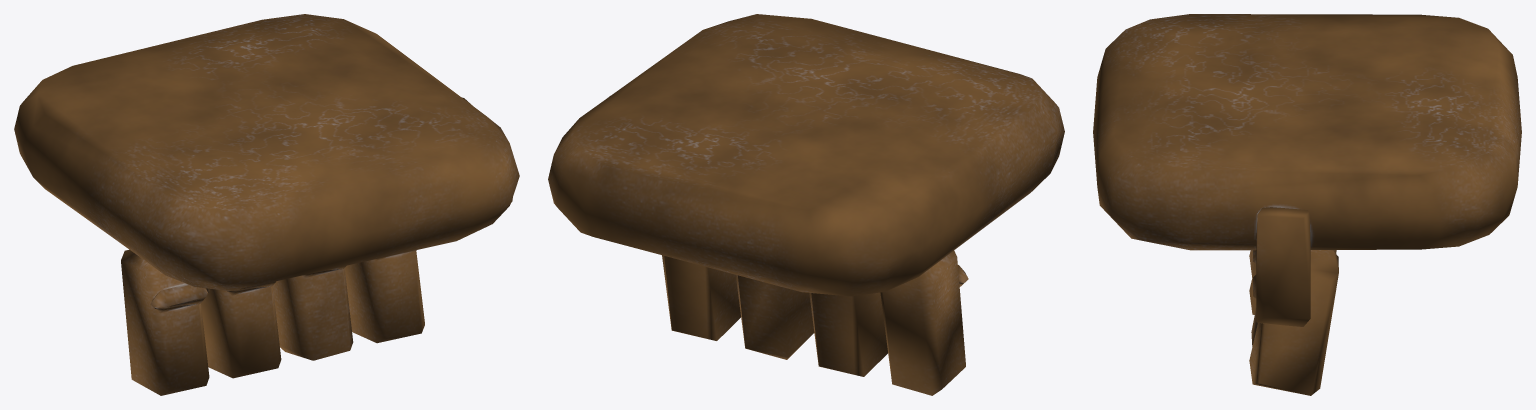
The model's file is MatonImp_BrazoMano_Bronce.fbx.
3 views of the same model, side by side, from view 1: azimuth 30°, elevation 25°; view 2: azimuth 150°, elevation 25°; view 3: azimuth 270°, elevation 25° (orthographic). The views are drawn at different scales.
Parts seen in each view (by area): view 1: MatonImp_BrazoMano_Bronce; view 2: MatonImp_BrazoMano_Bronce; view 3: MatonImp_BrazoMano_Bronce.
Part boxes in pixels (bbox=[...]): MatonImp_BrazoMano_Bronce: bbox=[14, 14, 519, 395]; MatonImp_BrazoMano_Bronce: bbox=[548, 14, 1064, 395]; MatonImp_BrazoMano_Bronce: bbox=[1093, 14, 1521, 395].
Size of the model in its own units: 1.39 by 0.8247 by 1.28.
